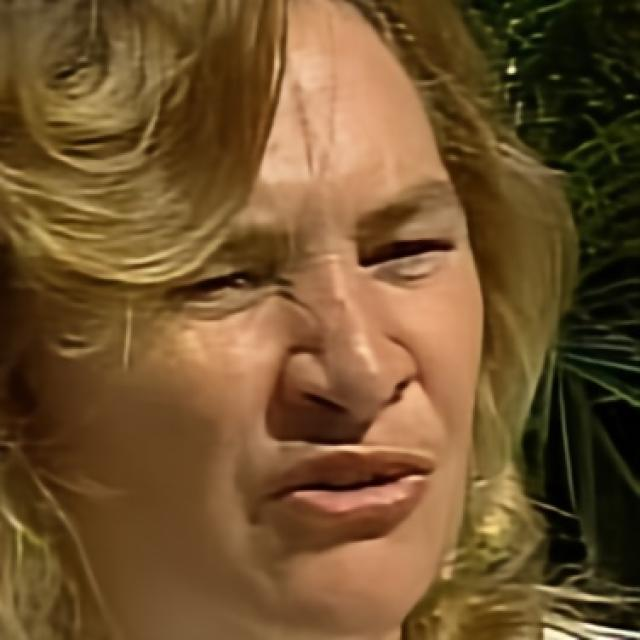disgust: (49, 0, 485, 638)
